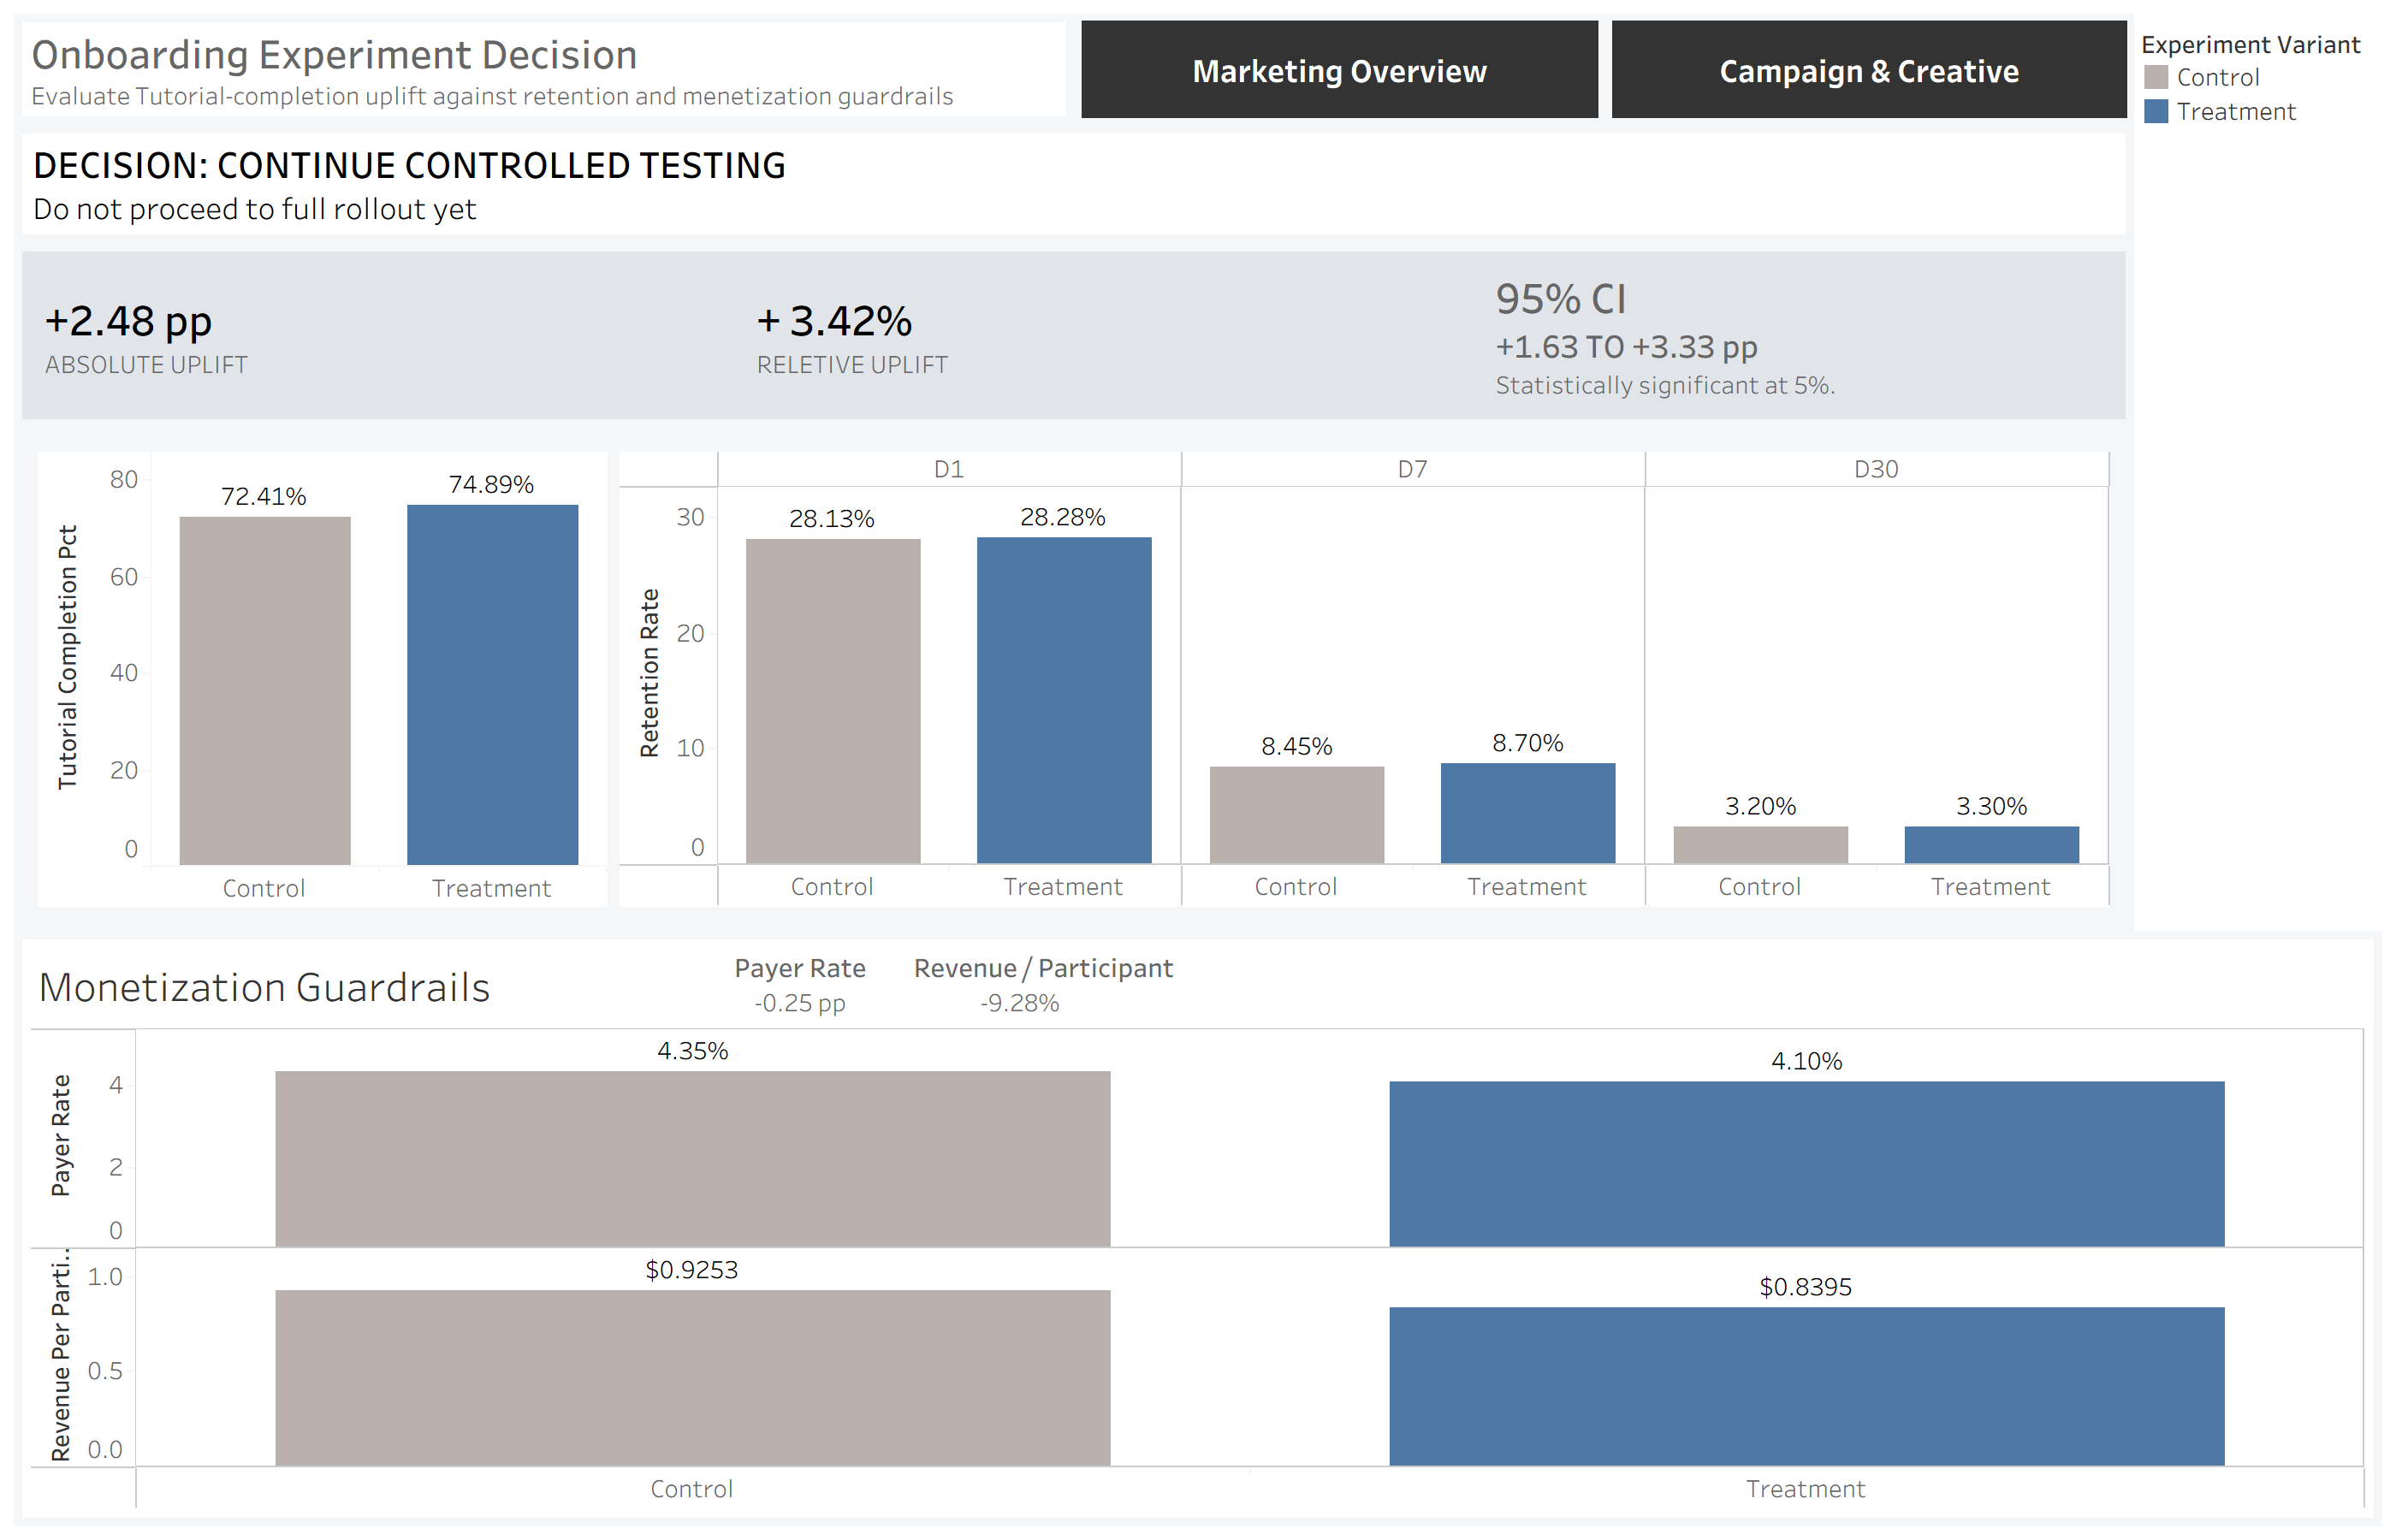

The dashboard page shown, as its layout file describes it:
{"tool":"tableau","page":{"name":"Onboard Experiment Decision","canvas":[1400,900],"ordinal":2},"visuals":[{"type":"text","box":[8,8,619.5,65.1]},{"type":"dashboard-object","box":[628,8,310,65]},{"type":"dashboard-object","box":[938,8,309,65]},{"type":"legend","title":"Tutorial Completion","param":"[federated.0y1wjvl0rwp3rs1e4m90w0utendc].[none:experiment_variant:nk]","box":[1250,14,140,61]},{"type":"text","box":[8,73.1,1239,68.9]},{"type":"text","box":[19,153,416,86]},{"type":"text","box":[435,153,432,86]},{"type":"text","box":[867,153,369,86]},{"type":"worksheet","title":"Tutorial Completion","mark":"Automatic","rows":["tutorial_completion_pct"],"cols":["experiment_variant"],"box":[18,260,340,274]},{"type":"worksheet","title":"Retention Comparison","mark":"Automatic","cols":["experiment_variant"],"box":[358,260,879,274]},{"type":"worksheet","title":"Monetization Guardrails","mark":"Automatic","rows":["payer_rate_pct","revenue_per_participant"],"cols":["experiment_variant"],"box":[8,544,1384,348]},{"type":"text","box":[423,553,309,45]}]}

Visuals, with their boxes in screenshot pixels (x1, y1, x2, y2), scaled from the page's 1400x900 canvas onto the 2396x1540 screenshot:
text: 14, 14, 1074, 125
dashboard-object: 1075, 14, 1605, 125
dashboard-object: 1605, 14, 2134, 125
"Tutorial Completion" legend: 2139, 24, 2379, 128
text: 14, 125, 2134, 243
text: 33, 262, 744, 409
text: 744, 262, 1484, 409
text: 1484, 262, 2115, 409
"Tutorial Completion" worksheet: 31, 445, 613, 914
"Retention Comparison" worksheet: 613, 445, 2117, 914
"Monetization Guardrails" worksheet: 14, 931, 2382, 1526
text: 724, 946, 1253, 1023
